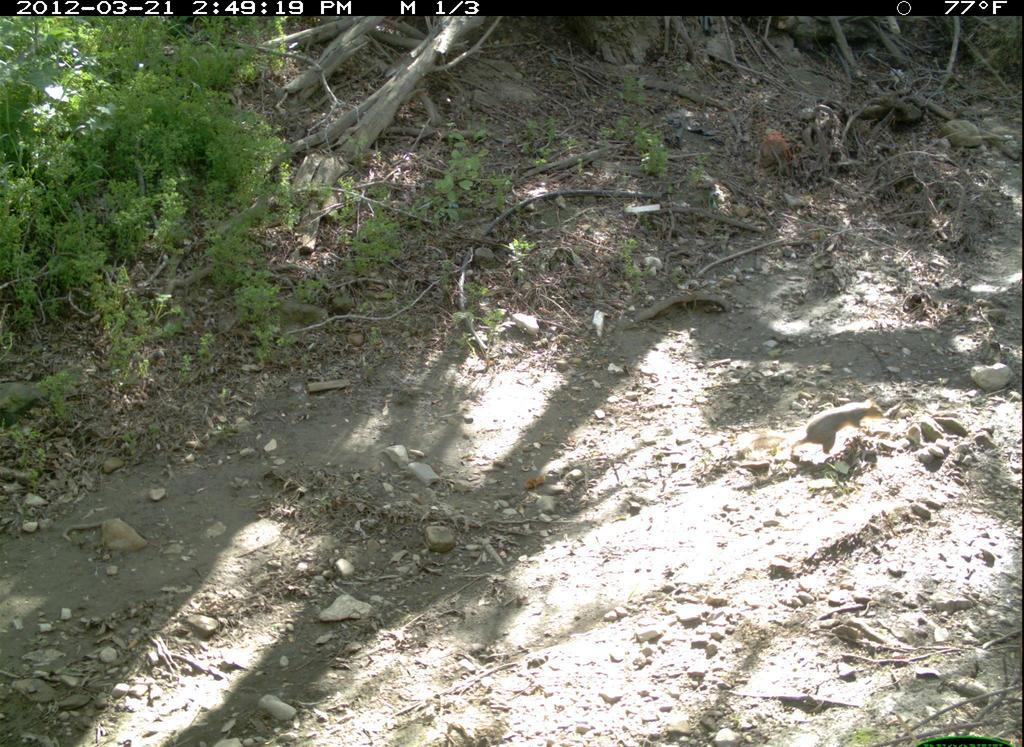squirrel: (736, 396, 893, 464)
